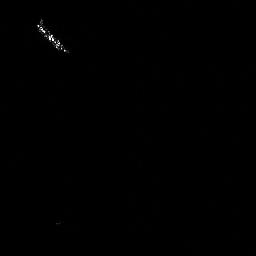ship: (36, 19, 69, 54)
